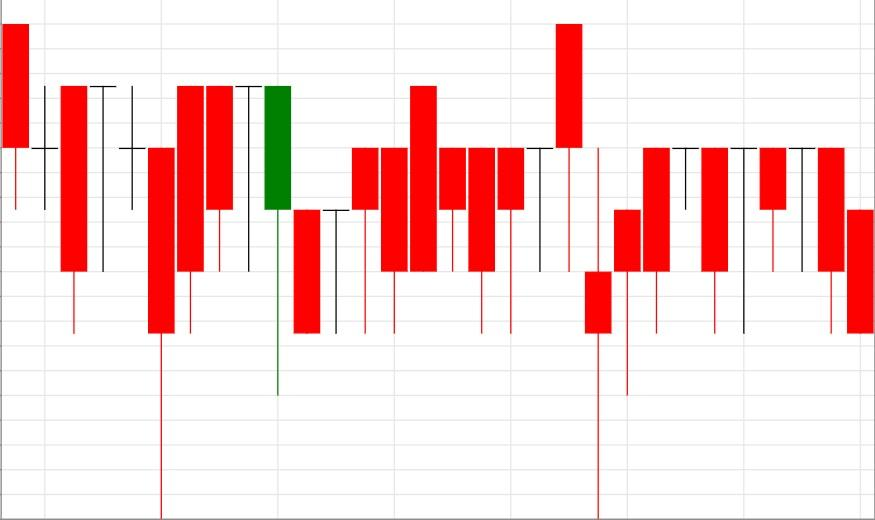evening_star_fall: (147, 84, 291, 519)
